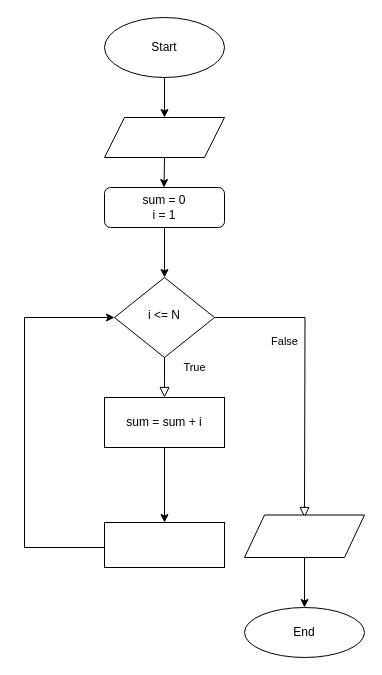
The diagram is 382 pixels wide and 675 high, and some of its shapes have lost their labels. Each missing label, with the centre of its shape:
i += 1: pixel 164 545
Input Nth value: pixel 164 137
Print sum: pixel 304 536
